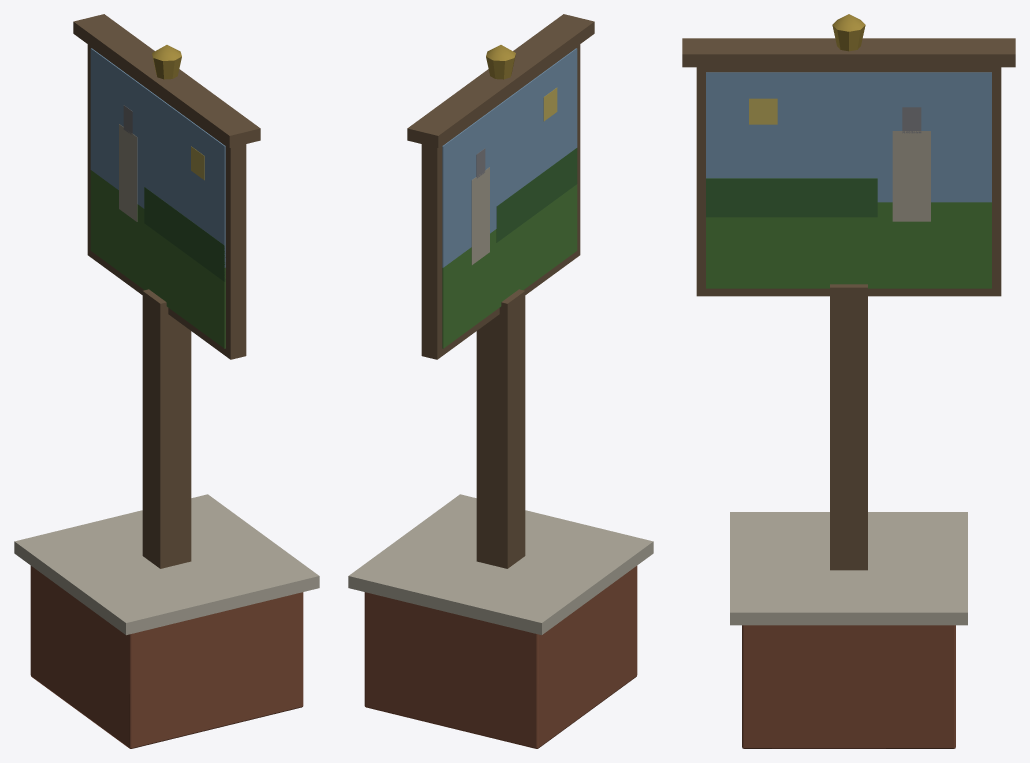
Rendered from SM_Prop_village_sign_0.glb.
3 renders of one model, left to right at view 1: azimuth 30°, elevation 25°; view 2: azimuth 150°, elevation 25°; view 3: azimuth 270°, elevation 25°, orthographic. The views are drawn at different scales.
Visible parts, largest first — view 1: SM_Prop_village_sign_0; view 2: SM_Prop_village_sign_0; view 3: SM_Prop_village_sign_0.
Boxes of the visible parts, x1,y1,x2,y2 form: SM_Prop_village_sign_0: (14,14,319,748); SM_Prop_village_sign_0: (348,14,653,748); SM_Prop_village_sign_0: (682,14,1015,748).
Bounding box in the file's own units: 1 × 3.2 × 1.4.
